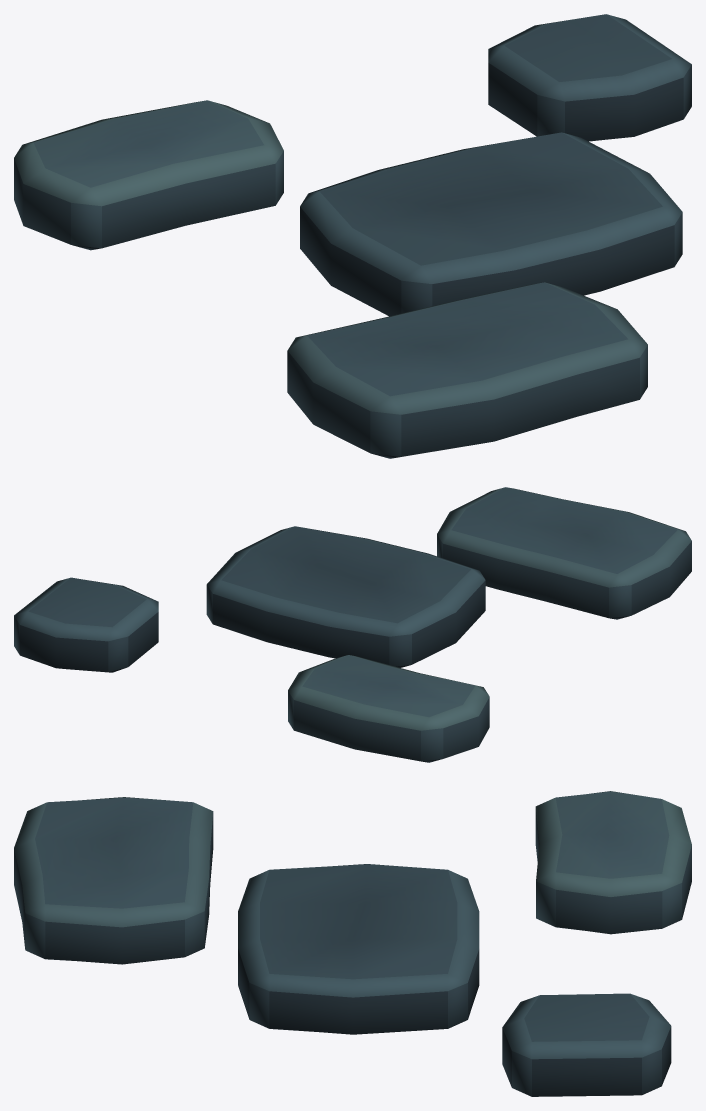
File: stone_path_8_LOD_setup.fbx
The picture shows the model from 3 angles, top to bottom: view 1: azimuth 30°, elevation 25°; view 2: azimuth 150°, elevation 25°; view 3: azimuth 270°, elevation 25°; orthographic projection. The views are drawn at different scales.
Parts seen in each view (by area): view 1: stone_path_8_LOD0; view 2: stone_path_8_LOD0; view 3: stone_path_8_LOD0.
Part boxes in pixels (x1,y1,x2,y2): stone_path_8_LOD0: (14,14,691,458); stone_path_8_LOD0: (14,487,691,762); stone_path_8_LOD0: (14,791,691,1096).
Size of what is drawn, in the model's own units: 191 by 18.28 by 204.
